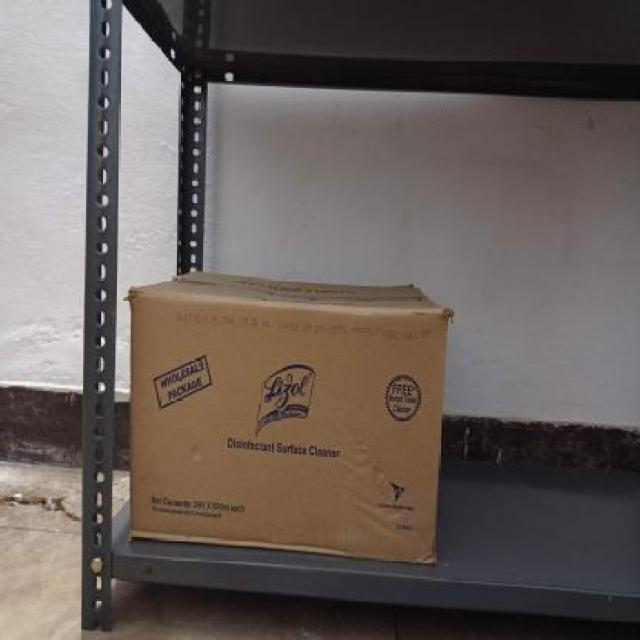box: (128, 304, 454, 542)
